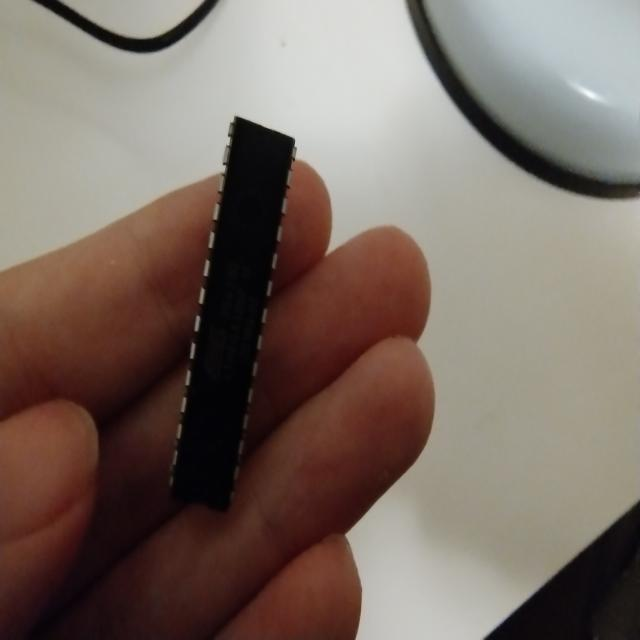atmega: (166, 113, 300, 514)
